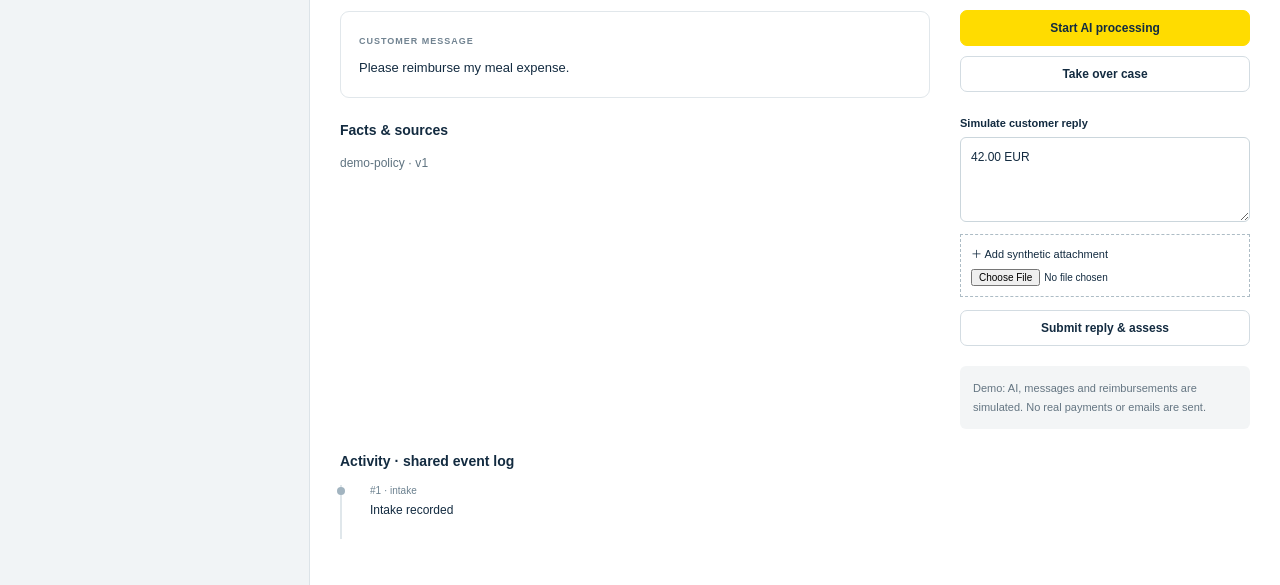
Test: temporary processing failure retries original key without resending customer message
(page scrolled)
Check: the text "Please reimburse my meal expense." is shown, box x1=359 y1=60 x2=569 y2=75
Click the button "Submit reply & assess" at (1105,328), box x1=960 y1=310 x2=1250 y2=346
(page scrolled)
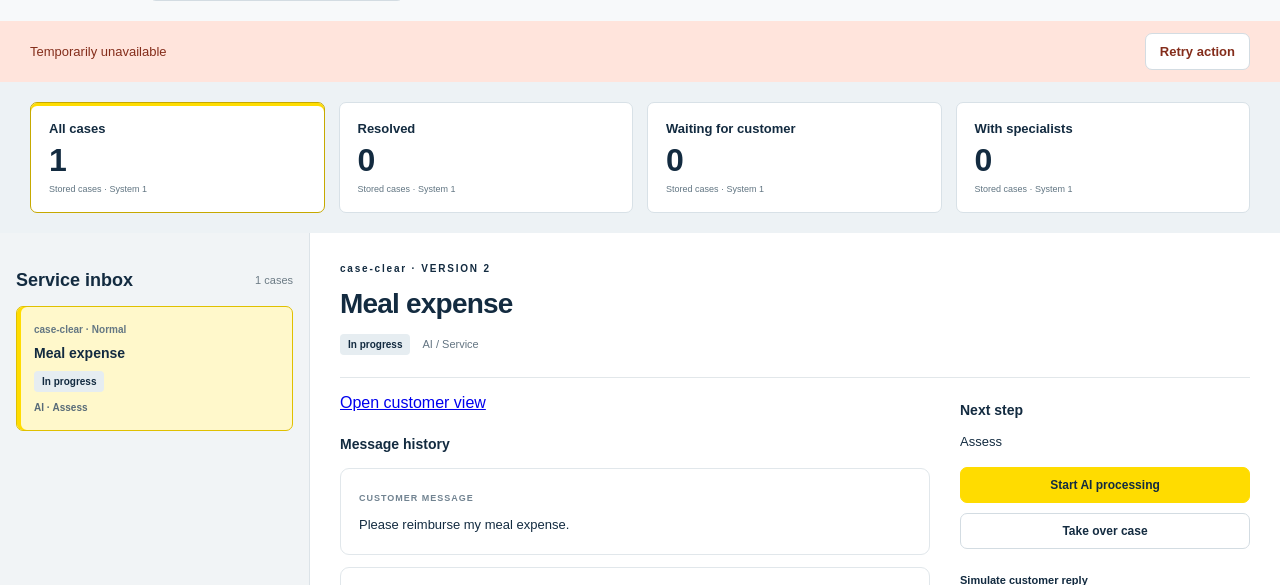
Click the button "Retry action" at (1197,52), box x1=1145 y1=33 x2=1250 y2=70
(page scrolled)
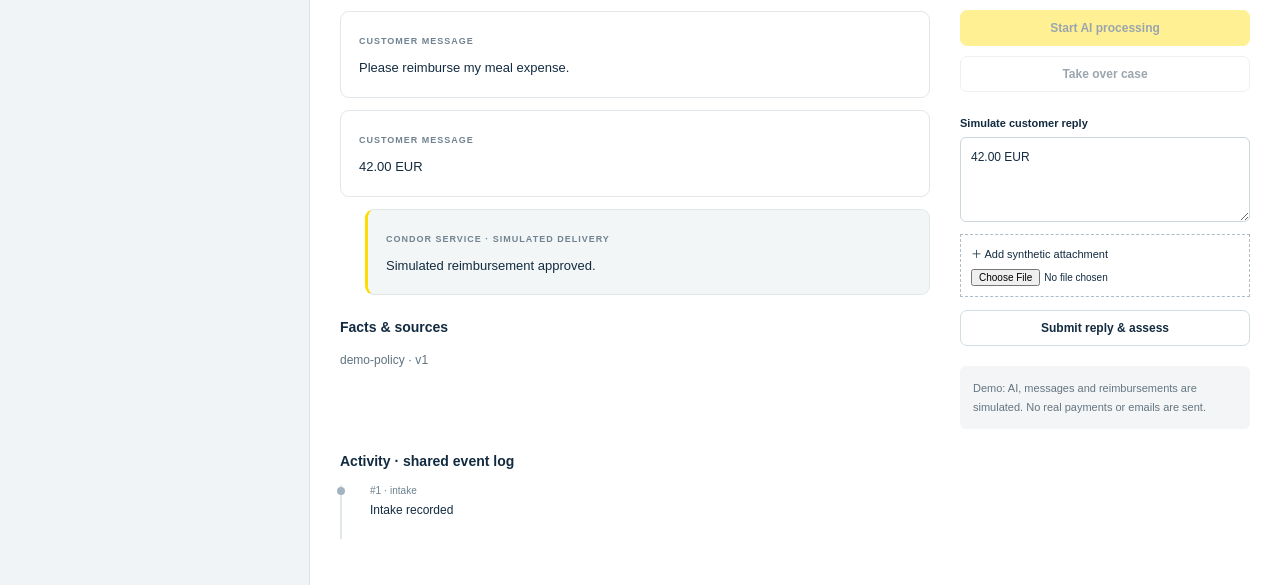
Check: the text "Simulated reimbursement approved." is shown, box x1=386 y1=258 x2=596 y2=273
